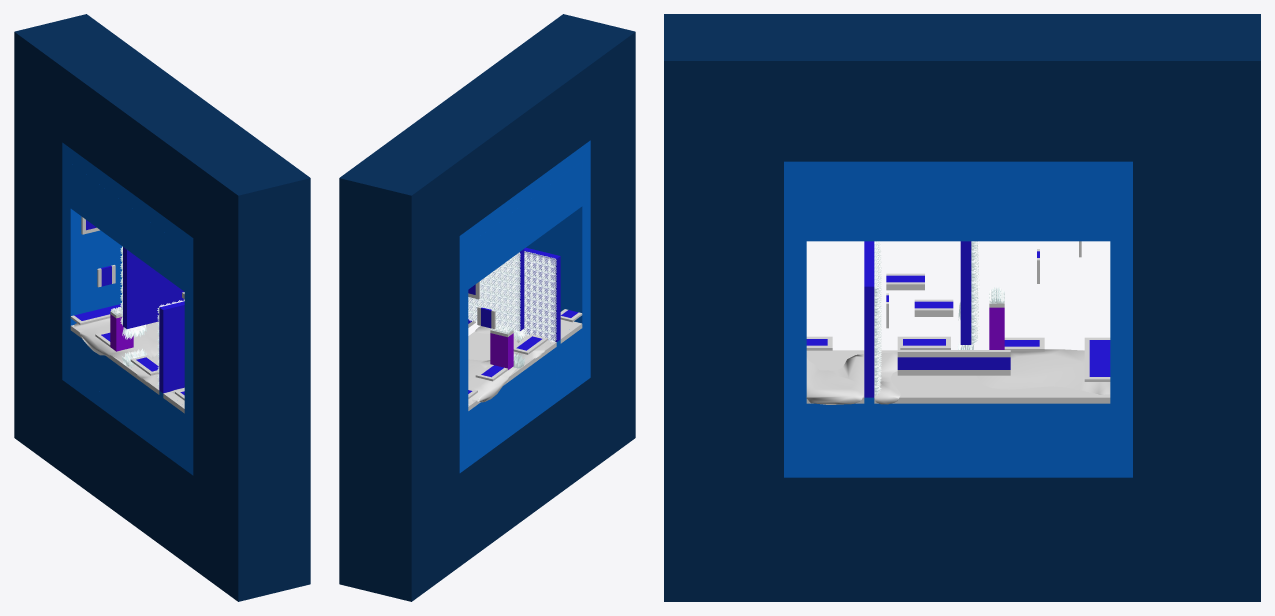
The model's file is FaceC.glb.
3 renders of one model, left to right at view 1: azimuth 30°, elevation 25°; view 2: azimuth 150°, elevation 25°; view 3: azimuth 270°, elevation 25°, orthographic. The views are drawn at different scales.
Parts seen in each view (by area): view 1: paredeTRUETRUE-col, Plano.001-col.001, plataforma_fundo-col.007, plataforma_fundo-col.004, Plano.003, Plano.001-col.002, plataforma_fundo-col.005; view 2: paredeTRUETRUE-col, Plano.001-col.001, espinhos.003, espinhos.004, plataforma_fundo-col.004, Plano.003, Plano.004, plataforma_fundo-col.005, Plano.001-col.002, plataforma_fundo-col.007; view 3: paredeTRUETRUE-col, Plano.001-col.001, Plano.003, Plano.004, Plano.001-col.002, plataforma_fundo-col.004, plataforma_frente-col.033, plataforma_frente-col.048, plataforma_fundo-col.007, espinhos.003, plataforma_frente-col.044, espinhos.004.
Part boxes in pixels (<box>): paredeTRUETRUE-col: <box>14,14,310,601</box>; Plano.001-col.001: <box>62,142,193,475</box>; plataforma_fundo-col.007: <box>123,247,184,328</box>; plataforma_fundo-col.004: <box>159,301,184,393</box>; Plano.003: <box>74,318,184,393</box>; Plano.001-col.002: <box>70,321,184,413</box>; plataforma_fundo-col.005: <box>110,314,133,351</box>; paredeTRUETRUE-col: <box>339,14,635,601</box>; Plano.001-col.001: <box>459,140,590,472</box>; espinhos.003: <box>523,251,556,341</box>; espinhos.004: <box>468,252,520,332</box>; plataforma_fundo-col.004: <box>524,247,560,341</box>; Plano.003: <box>468,319,563,404</box>; Plano.004: <box>468,320,578,400</box>; plataforma_fundo-col.005: <box>490,333,513,369</box>; Plano.001-col.002: <box>468,323,582,410</box>; plataforma_fundo-col.007: <box>519,249,524,330</box>; paredeTRUETRUE-col: <box>664,14,1260,601</box>; Plano.001-col.001: <box>784,161,1132,477</box>; Plano.003: <box>806,349,1110,404</box>; Plano.004: <box>806,352,1110,394</box>; Plano.001-col.002: <box>806,350,1110,403</box>; plataforma_fundo-col.004: <box>864,241,874,397</box>; plataforma_frente-col.033: <box>897,338,1010,375</box>; plataforma_frente-col.048: <box>897,357,1010,369</box>; plataforma_fundo-col.007: <box>960,241,971,344</box>; espinhos.003: <box>874,241,881,395</box>; plataforma_frente-col.044: <box>1089,340,1110,376</box>; espinhos.004: <box>971,241,979,344</box>.
Bounding box in the file's own units: 99.84 × 509 × 509.
